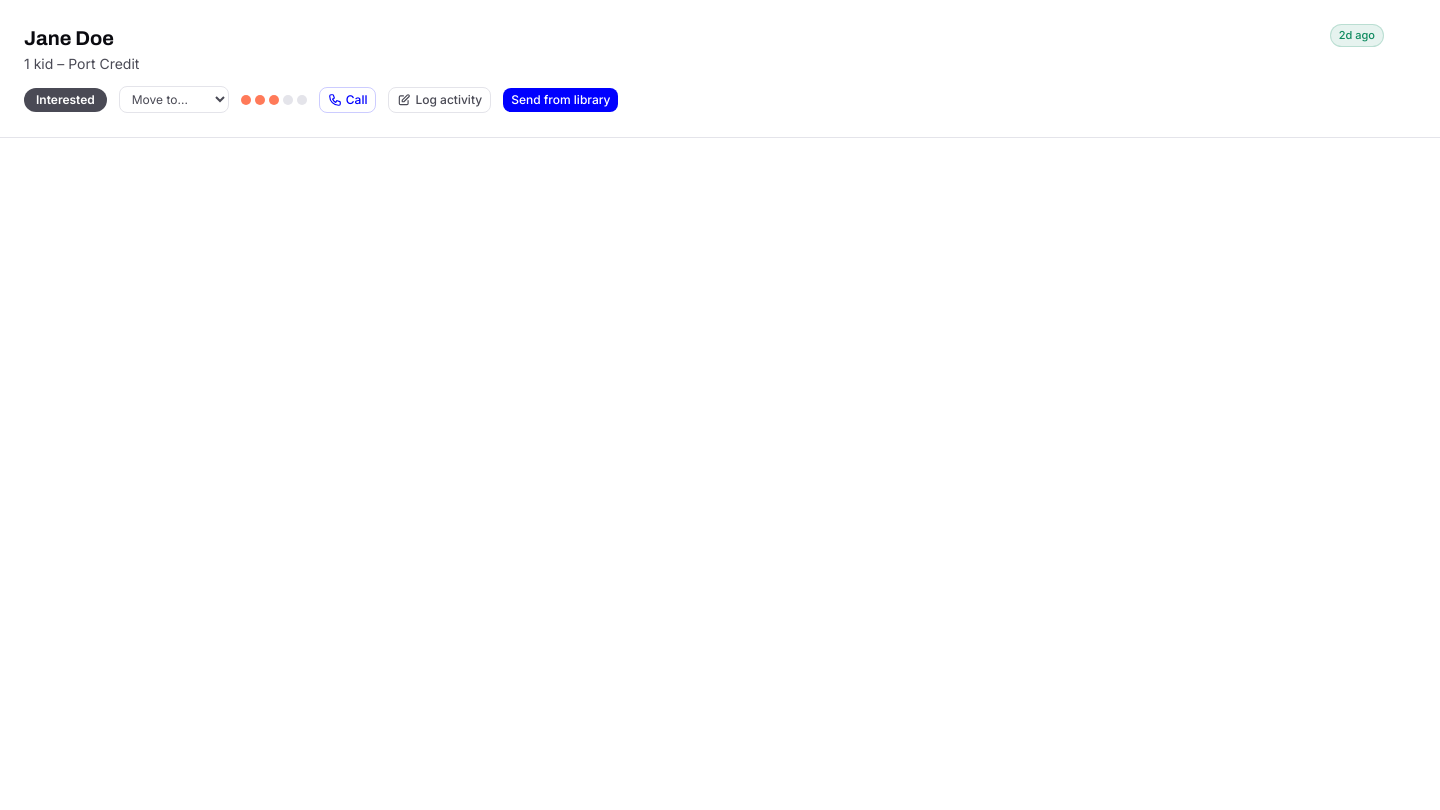
Test: Contact Drawer - Send from library integration › shows empty message when no library items available
Click the button "Send from library".
click(561, 100)  # box [503,88,618,112]
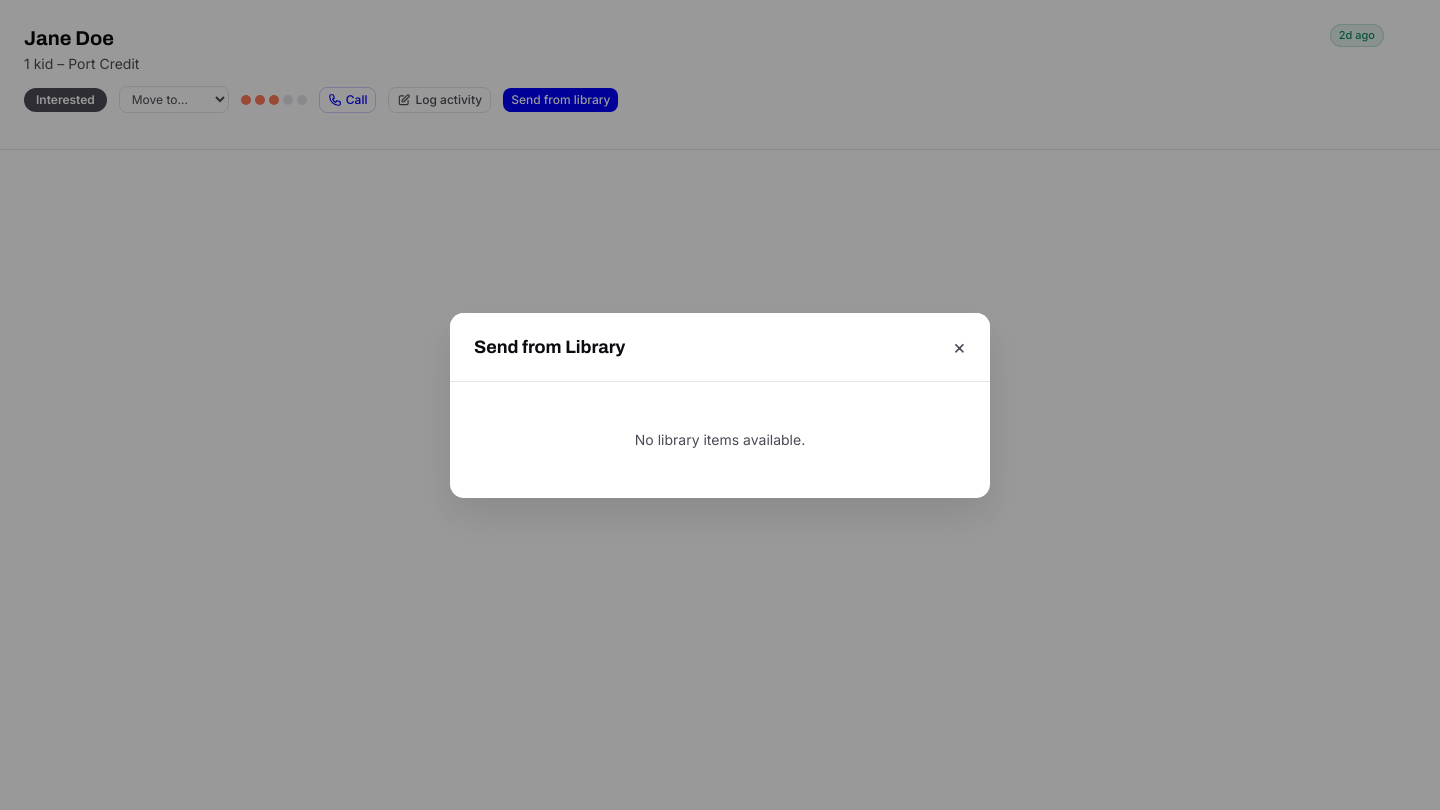
Check: the text "No library items available." is shown, box [635,430,805,448]
